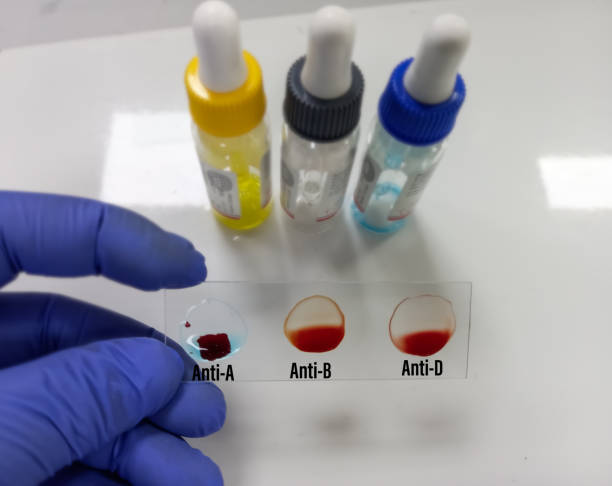blood: (183, 320, 240, 363), (285, 322, 355, 356), (395, 327, 457, 356)
